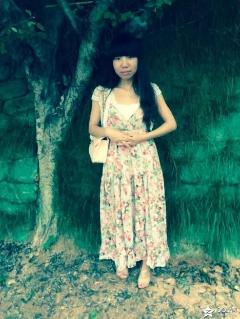sling: (100, 82, 170, 272)
